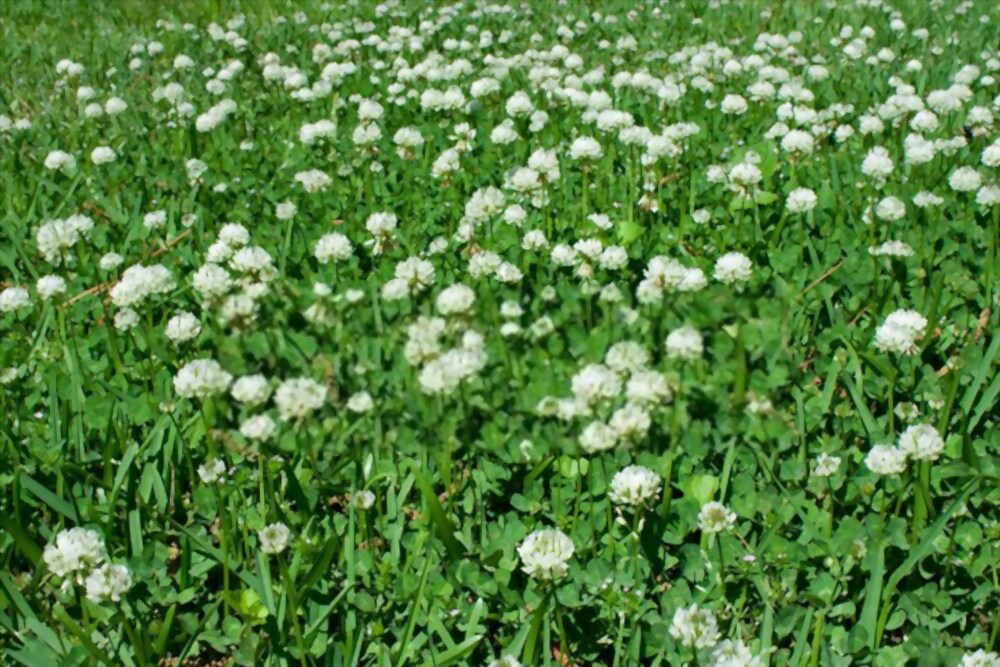clover: (3, 8, 993, 663)
